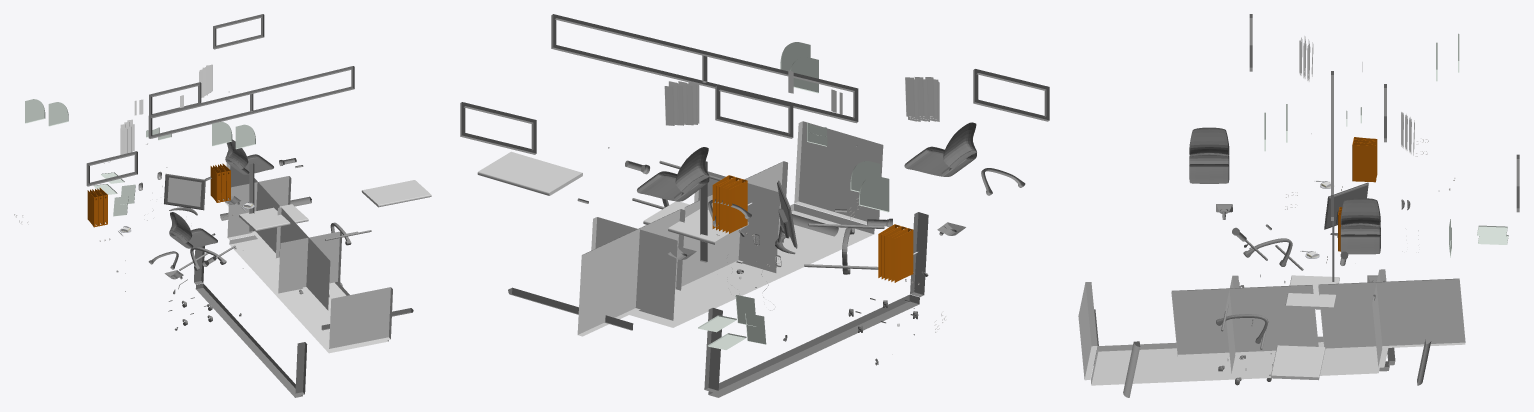
3 views of the same model, side by side, from view 1: azimuth 30°, elevation 25°; view 2: azimuth 150°, elevation 25°; view 3: azimuth 270°, elevation 25° (orthographic). The views are drawn at different scales.
Visible parts, largest first — view 1: Line457, Line455, Line456, Rectangle0, Ecran Hecu, Rectangl11, Rectangl12, zjx572, zjx573, Rectangle4, Rectangle1, Archinte89 (+6 smaller); view 2: Line457, Line455, Line456, Rectangle0, Rectangl11, zjx573, zjx572, Rectangl12, Circle617, Rectangle2, Rectangle1, Rectangle4 (+9 smaller); view 3: Line455, Line457, zjx572, zjx573, Rectangl11, Rectangl12, Archinte82, Circle617, Ecran Hecu, Rectangle0.
Boxes of the visible parts, bbox=[...] form: Line457: bbox=[227, 176, 392, 353]; Line455: bbox=[225, 152, 330, 311]; Line456: bbox=[194, 246, 307, 397]; Rectangle0: bbox=[148, 66, 354, 138]; Ecran Hecu: bbox=[164, 173, 205, 215]; Rectangl11: bbox=[361, 180, 431, 207]; Rectangl12: bbox=[239, 204, 308, 231]; zjx572: bbox=[169, 212, 217, 248]; zjx573: bbox=[225, 139, 273, 174]; Rectangle4: bbox=[86, 151, 137, 186]; Rectangle1: bbox=[213, 14, 264, 49]; Archinte89: bbox=[235, 124, 255, 149]; Line457: bbox=[591, 121, 883, 327]; Line455: bbox=[577, 161, 787, 336]; Line456: bbox=[704, 212, 928, 397]; Rectangle0: bbox=[551, 14, 858, 123]; Rectangl11: bbox=[477, 151, 582, 195]; zjx573: bbox=[637, 147, 709, 201]; zjx572: bbox=[904, 122, 976, 176]; Rectangl12: bbox=[643, 201, 748, 244]; Circle617: bbox=[508, 214, 838, 330]; Rectangle2: bbox=[715, 85, 793, 138]; Rectangle1: bbox=[460, 102, 536, 154]; Rectangle4: bbox=[973, 69, 1049, 121]; Line455: bbox=[1171, 278, 1465, 356]; Line457: bbox=[1078, 269, 1388, 385]; zjx572: bbox=[1189, 127, 1229, 183]; zjx573: bbox=[1340, 198, 1380, 254]; Rectangl11: bbox=[1271, 345, 1325, 380]; Rectangl12: bbox=[1285, 275, 1339, 309]; Archinte82: bbox=[1352, 142, 1376, 182]; Circle617: bbox=[1123, 339, 1431, 397]; Ecran Hecu: bbox=[1324, 182, 1368, 235]; Rectangle0: bbox=[1331, 71, 1333, 220].
Size of the model in its own units: 390 by 246 by 341.
